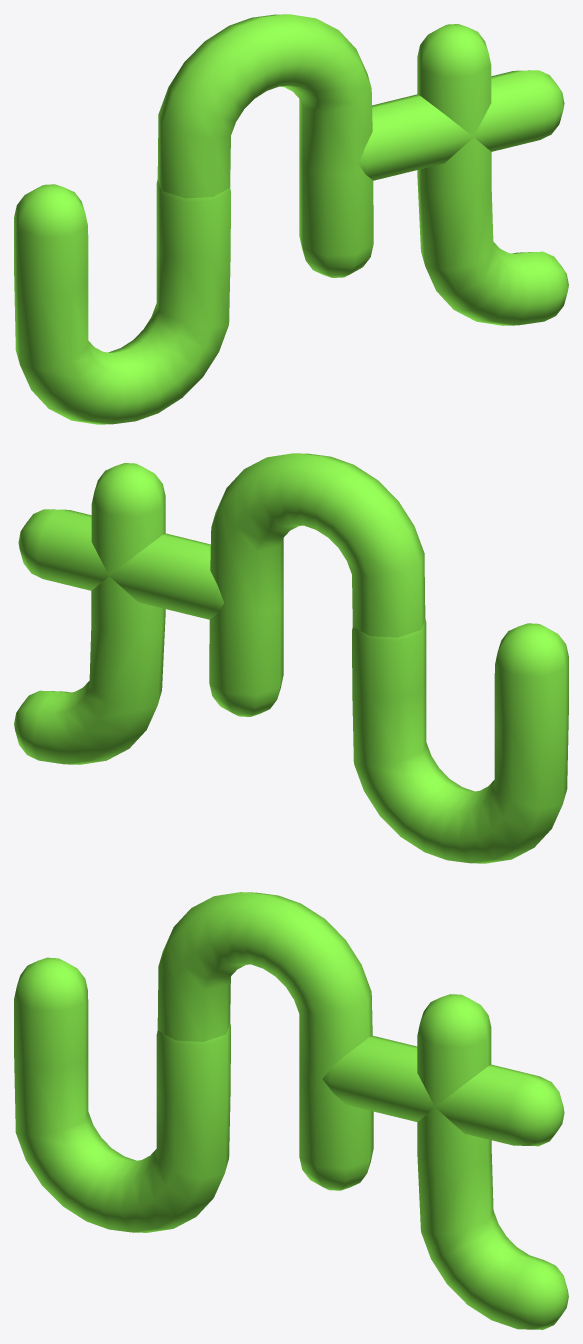
File: unt.glb
The picture shows the model from 3 angles, top to bottom: view 1: azimuth 30°, elevation 25°; view 2: azimuth 150°, elevation 25°; view 3: azimuth 330°, elevation 25°; orthographic projection.
Parts seen in each view (by area): view 1: U, T, N; view 2: U, T, N; view 3: T, U, N.
Boxes of the visible parts, x1,y1,x2,y2 form: U: (14, 179, 230, 424); T: (359, 24, 568, 325); N: (157, 14, 373, 277); U: (352, 618, 568, 863); T: (14, 463, 224, 764); N: (209, 453, 425, 716); T: (322, 994, 568, 1329); U: (14, 957, 230, 1232); N: (157, 892, 373, 1190).
Bounding box in the file's own units: 4.43 × 2.86 × 0.5393.
